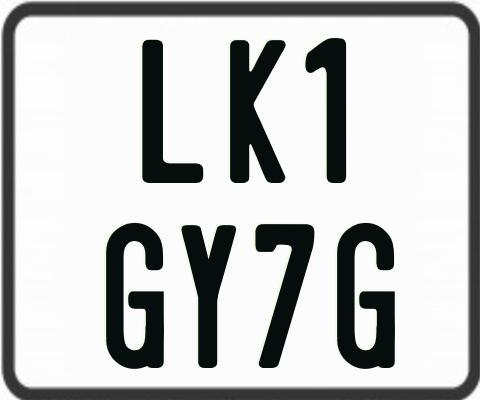1: (304, 37, 350, 182)
7: (255, 222, 320, 369)
G: (336, 220, 400, 370), (103, 220, 166, 372)
K: (227, 40, 289, 183)
L: (140, 39, 203, 183)
Y: (180, 222, 236, 368)
